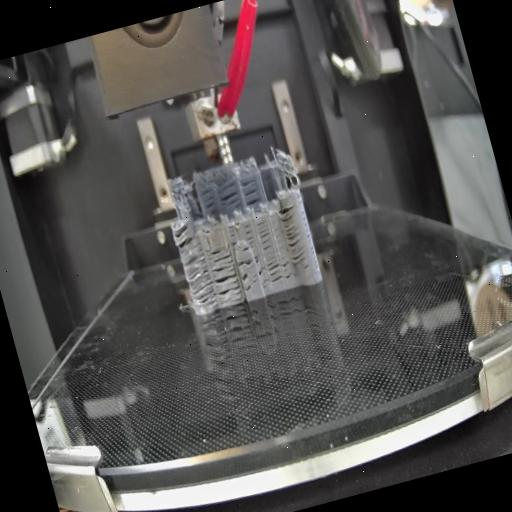cracks: (180, 248, 218, 308), (276, 202, 310, 266), (212, 264, 242, 304), (264, 252, 295, 284), (168, 218, 198, 248), (218, 181, 243, 212), (239, 176, 263, 208), (254, 217, 274, 251), (198, 188, 220, 218), (253, 251, 268, 288), (210, 245, 232, 266), (226, 224, 240, 247), (236, 255, 252, 269), (243, 222, 254, 242), (241, 273, 253, 291), (240, 244, 252, 252)
